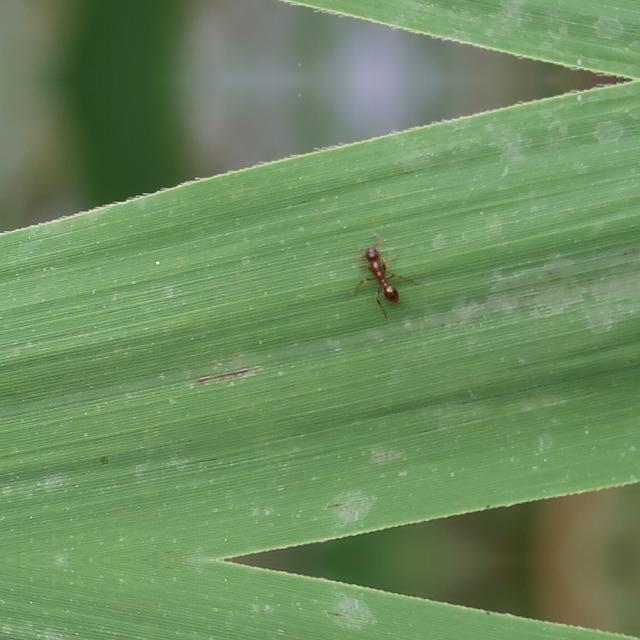Myrmica: (348, 240, 410, 310)
